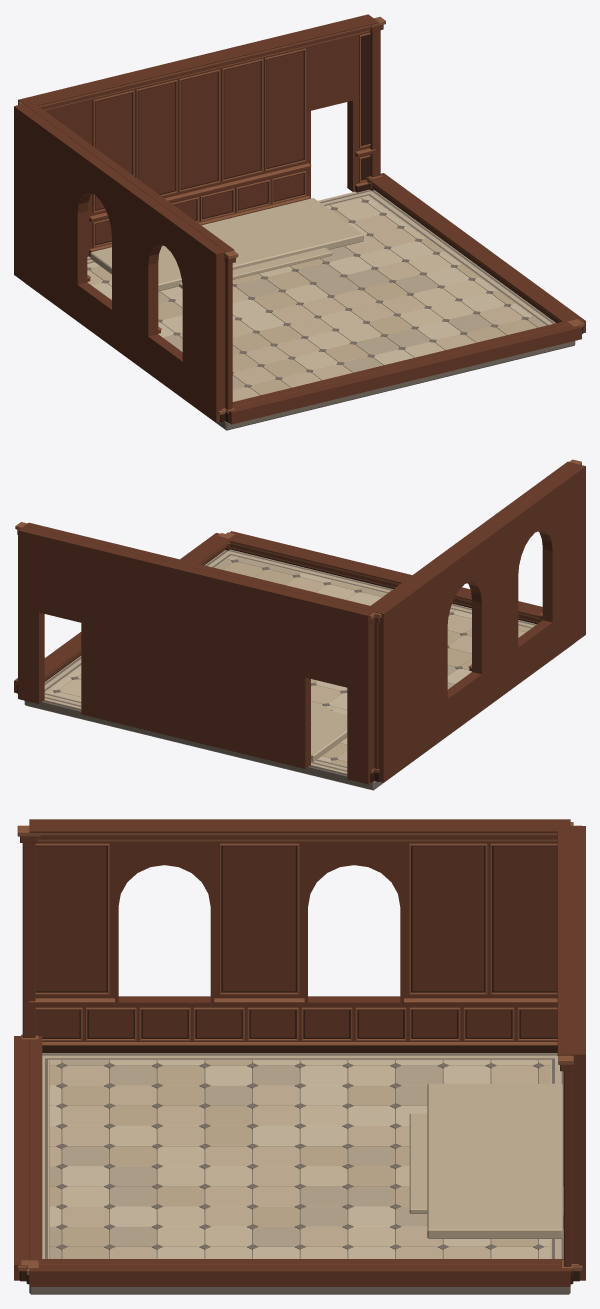
File: lecture_architecture.glb
The picture shows the model from 3 angles, top to bottom: view 1: azimuth 30°, elevation 25°; view 2: azimuth 150°, elevation 25°; view 3: azimuth 270°, elevation 25°; orthographic projection. The views are drawn at different scales.
Visible parts, largest first — view 1: lecture_Floor, lecture_left_Wall_Solid_00, lecture_rear_Wall_Solid_00, lecture_Teaching_Dais, lecture_front_Cutedge_Solid_00, lecture_rear_Wall_UpperPanel_00_1_2_Field, lecture_rear_Wall_UpperPanel_00_1_4_Field, lecture_rear_Wall_UpperPanel_00_1_3_Field, lecture_rear_Wall_UpperPanel_00_1_1_Field, lecture_rear_Wall_UpperPanel_00_1_0_Field, lecture_rear_Wall_Cornice_00_3_0, lecture_Floor_Foundation (+21 smaller); view 2: lecture_rear_Wall_Solid_00, lecture_left_Wall_Solid_00, lecture_Floor, lecture_Floor_Foundation, lecture_rear_Wall_Cornice_00_3_0, lecture_left_Wall_Cornice_00_3_0, lecture_Teaching_Dais, lecture_front_Cutedge_Cornice_00_3_0, lecture_front_Cutedge_Solid_00, lecture_front_Cutedge_Cornice_00_1_0, lecture_right_Cutedge_Solid_00, Pilaster_Shaft (+3 smaller); view 3: lecture_Floor, lecture_left_Wall_Solid_00, lecture_Teaching_Dais, lecture_right_Cutedge_Solid_00, lecture_left_Wall_UpperPanel_00_1_0_Field, lecture_left_Wall_UpperPanel_00_2_0_Field, lecture_left_Wall_UpperPanel_00_0_0_Field, lecture_left_Wall_UpperPanel_00_2_1_Field, lecture_rear_Wall_Solid_00, lecture_left_Wall_Skirting_00_0, lecture_Floor_Foundation, lecture_left_Wall_Cornice_00_3_0 (+27 smaller).
Part boxes in pixels (x1,y1,x2,y2): lecture_Floor: (87, 189, 555, 401); lecture_left_Wall_Solid_00: (14, 104, 225, 422); lecture_rear_Wall_Solid_00: (18, 14, 373, 256); lecture_Teaching_Dais: (90, 198, 363, 291); lecture_front_Cutedge_Solid_00: (229, 325, 581, 424); lecture_rear_Wall_UpperPanel_00_1_2_Field: (181, 72, 217, 188); lecture_rear_Wall_UpperPanel_00_1_4_Field: (267, 51, 303, 167); lecture_rear_Wall_UpperPanel_00_1_3_Field: (224, 62, 260, 178); lecture_rear_Wall_UpperPanel_00_1_1_Field: (138, 82, 174, 194); lecture_rear_Wall_UpperPanel_00_1_0_Field: (95, 93, 131, 209); lecture_rear_Wall_Cornice_00_3_0: (24, 18, 378, 106); lecture_Floor_Foundation: (25, 283, 575, 430); lecture_rear_Wall_Solid_00: (18, 526, 373, 784); lecture_left_Wall_Solid_00: (374, 464, 585, 782); lecture_Floor: (44, 549, 536, 774); lecture_Floor_Foundation: (24, 644, 572, 790); lecture_rear_Wall_Cornice_00_3_0: (24, 522, 373, 611); lecture_left_Wall_Cornice_00_3_0: (366, 461, 575, 611); lecture_Teaching_Dais: (311, 706, 347, 761); lecture_front_Cutedge_Cornice_00_3_0: (221, 537, 542, 617); lecture_front_Cutedge_Solid_00: (230, 531, 542, 611); lecture_front_Cutedge_Cornice_00_1_0: (230, 544, 542, 622); lecture_right_Cutedge_Solid_00: (14, 533, 221, 692); Pilaster_Shaft: (374, 622, 378, 768); lecture_Floor: (42, 1053, 563, 1258); lecture_left_Wall_Solid_00: (29, 819, 570, 1041); lecture_Teaching_Dais: (427, 1083, 562, 1238); lecture_right_Cutedge_Solid_00: (29, 1265, 570, 1286); lecture_left_Wall_UpperPanel_00_1_0_Field: (223, 846, 295, 991); lecture_left_Wall_UpperPanel_00_2_0_Field: (412, 846, 483, 991); lecture_left_Wall_UpperPanel_00_0_0_Field: (35, 846, 106, 991); lecture_left_Wall_UpperPanel_00_2_1_Field: (493, 846, 557, 991); lecture_rear_Wall_Solid_00: (570, 826, 585, 1280); lecture_left_Wall_Skirting_00_0: (42, 1045, 557, 1053); lecture_Floor_Foundation: (29, 1287, 570, 1294); lecture_left_Wall_Cornice_00_3_0: (29, 825, 570, 832).
Bounding box in the file's own units: 10.56 × 4.91 × 10.56.
